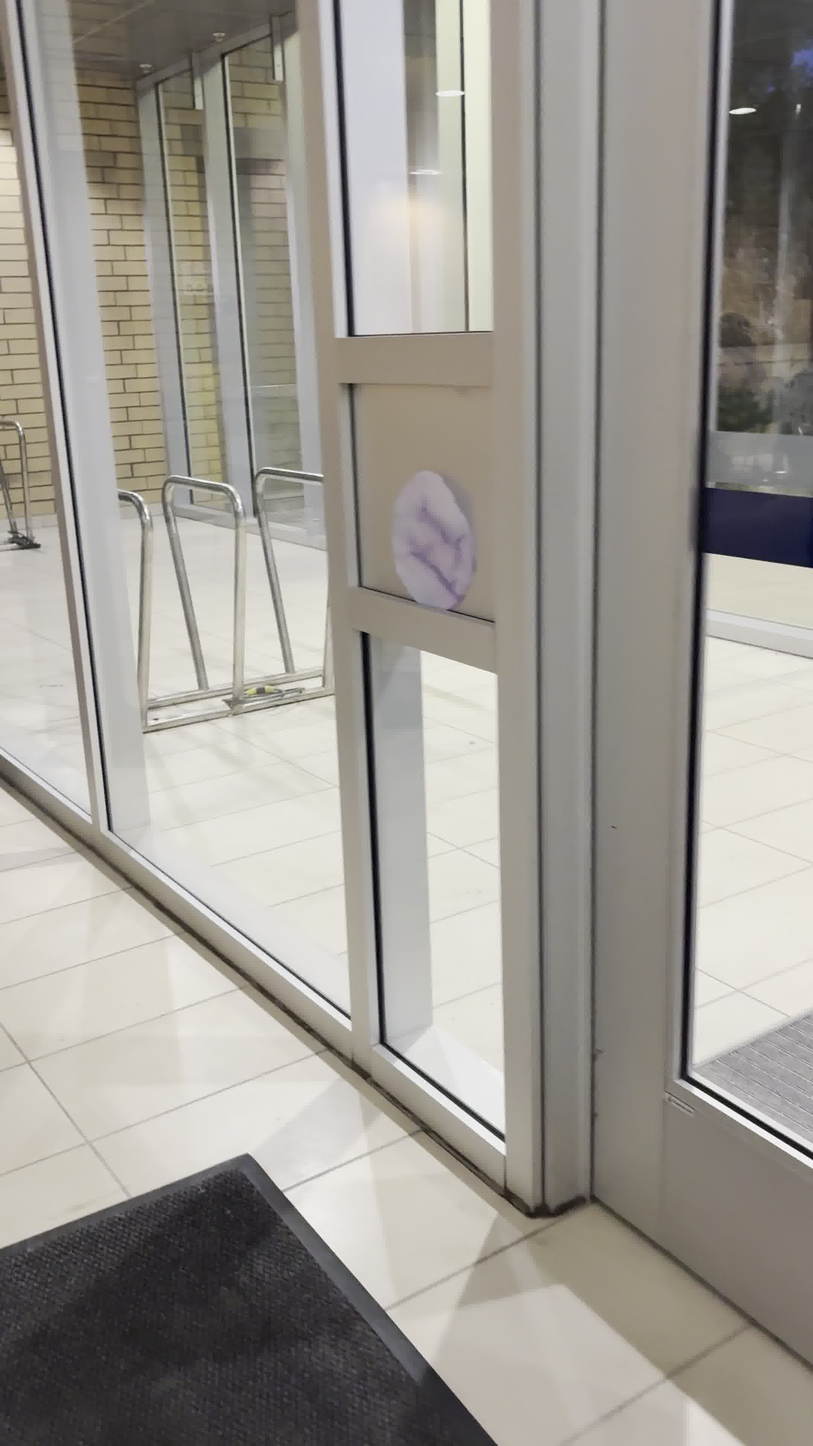Target: (379, 458, 487, 614)
